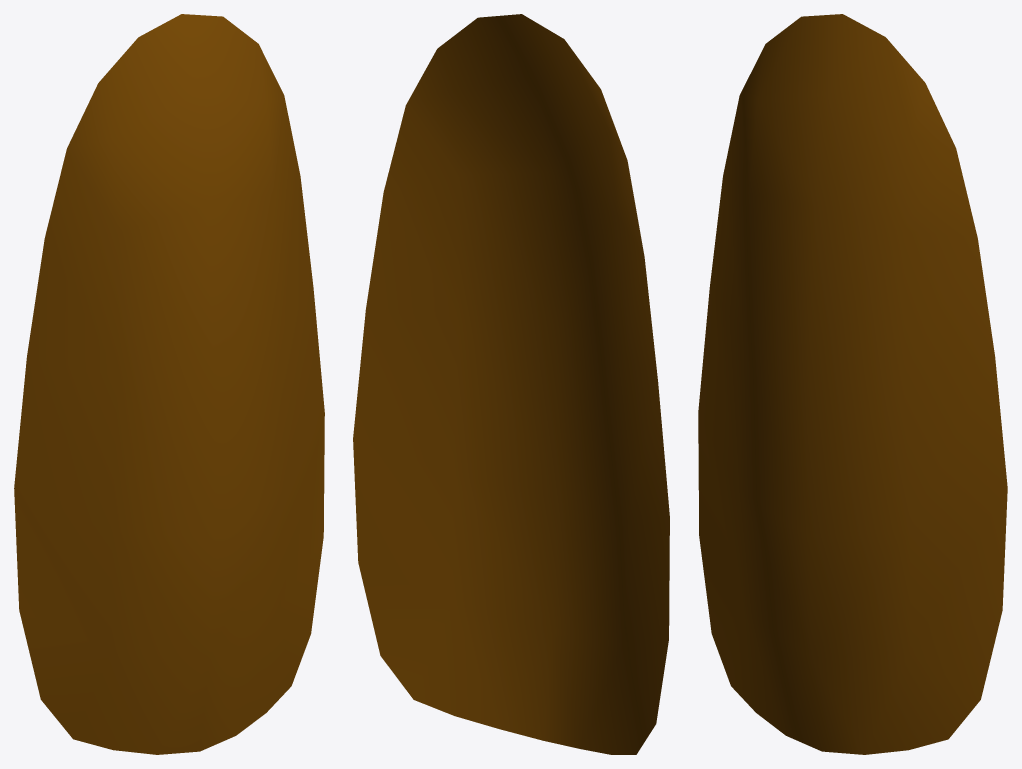
File: MD_nail_oval_HandL.Little.fbx
3 views of the same model, side by side, from view 1: azimuth 30°, elevation 25°; view 2: azimuth 150°, elevation 25°; view 3: azimuth 330°, elevation 25° (orthographic). The views are drawn at different scales.
Parts seen in each view (by area): view 1: MD_nail_oval_HandL.Little; view 2: MD_nail_oval_HandL.Little; view 3: MD_nail_oval_HandL.Little.
Part boxes in pixels (<box>): MD_nail_oval_HandL.Little: <box>14,14,324,754</box>; MD_nail_oval_HandL.Little: <box>353,14,669,754</box>; MD_nail_oval_HandL.Little: <box>698,14,1007,754</box>.
Bounding box in the file's own units: 0.5751 × 1.28 × 0.149.
